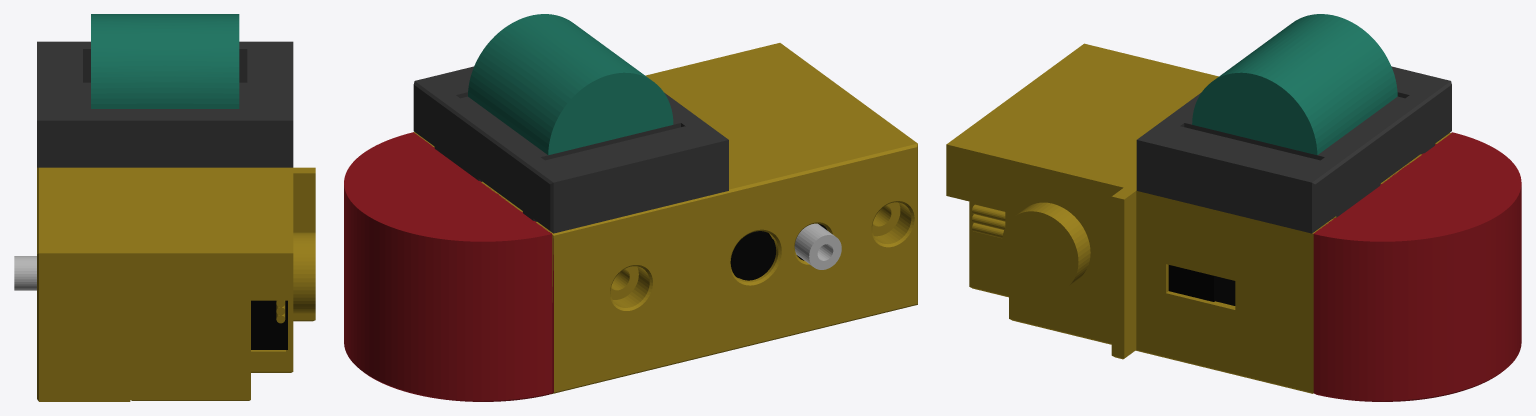
File: finger_link331.dae
3 views of the same model, side by side, from view 1: azimuth 30°, elevation 25°; view 2: azimuth 150°, elevation 25°; view 3: azimuth 270°, elevation 25° (orthographic). The views are drawn at different scales.
Parts seen in each view (by area): view 1: finger_link331.001; view 2: finger_link331.001; view 3: finger_link331.001.
Boxes of the visible parts, x1,y1,x2,y2 form: finger_link331.001: [14, 14, 315, 401]; finger_link331.001: [344, 14, 917, 401]; finger_link331.001: [946, 14, 1521, 401].
Size of the model in its own units: 58.48 by 71.59 by 38.15.
